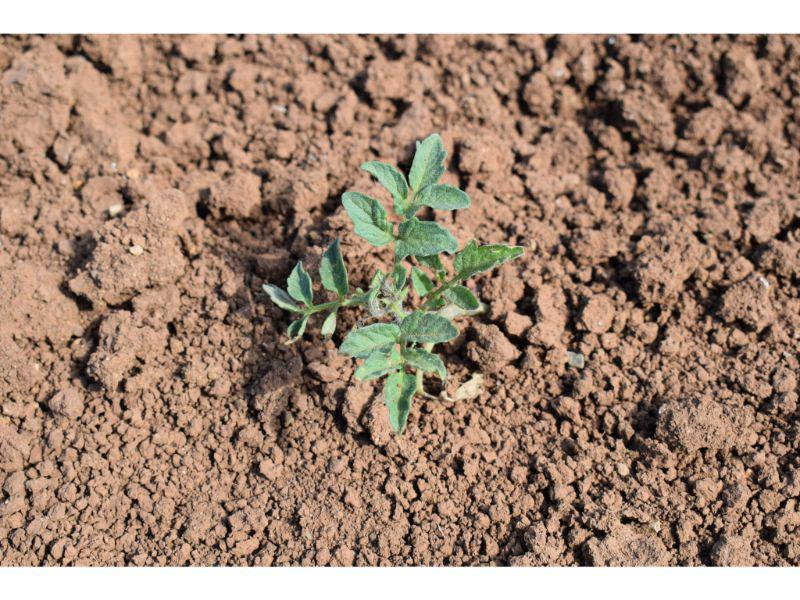tomato: (263, 133, 523, 432)
